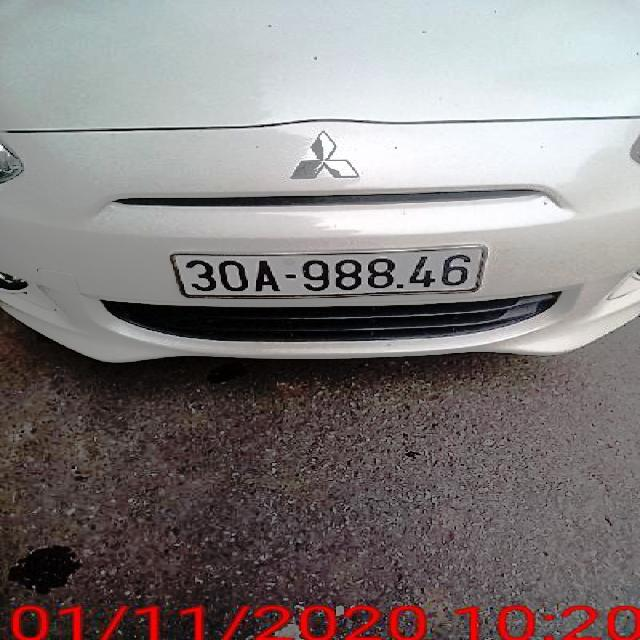license_plate: (176, 248, 483, 299)
